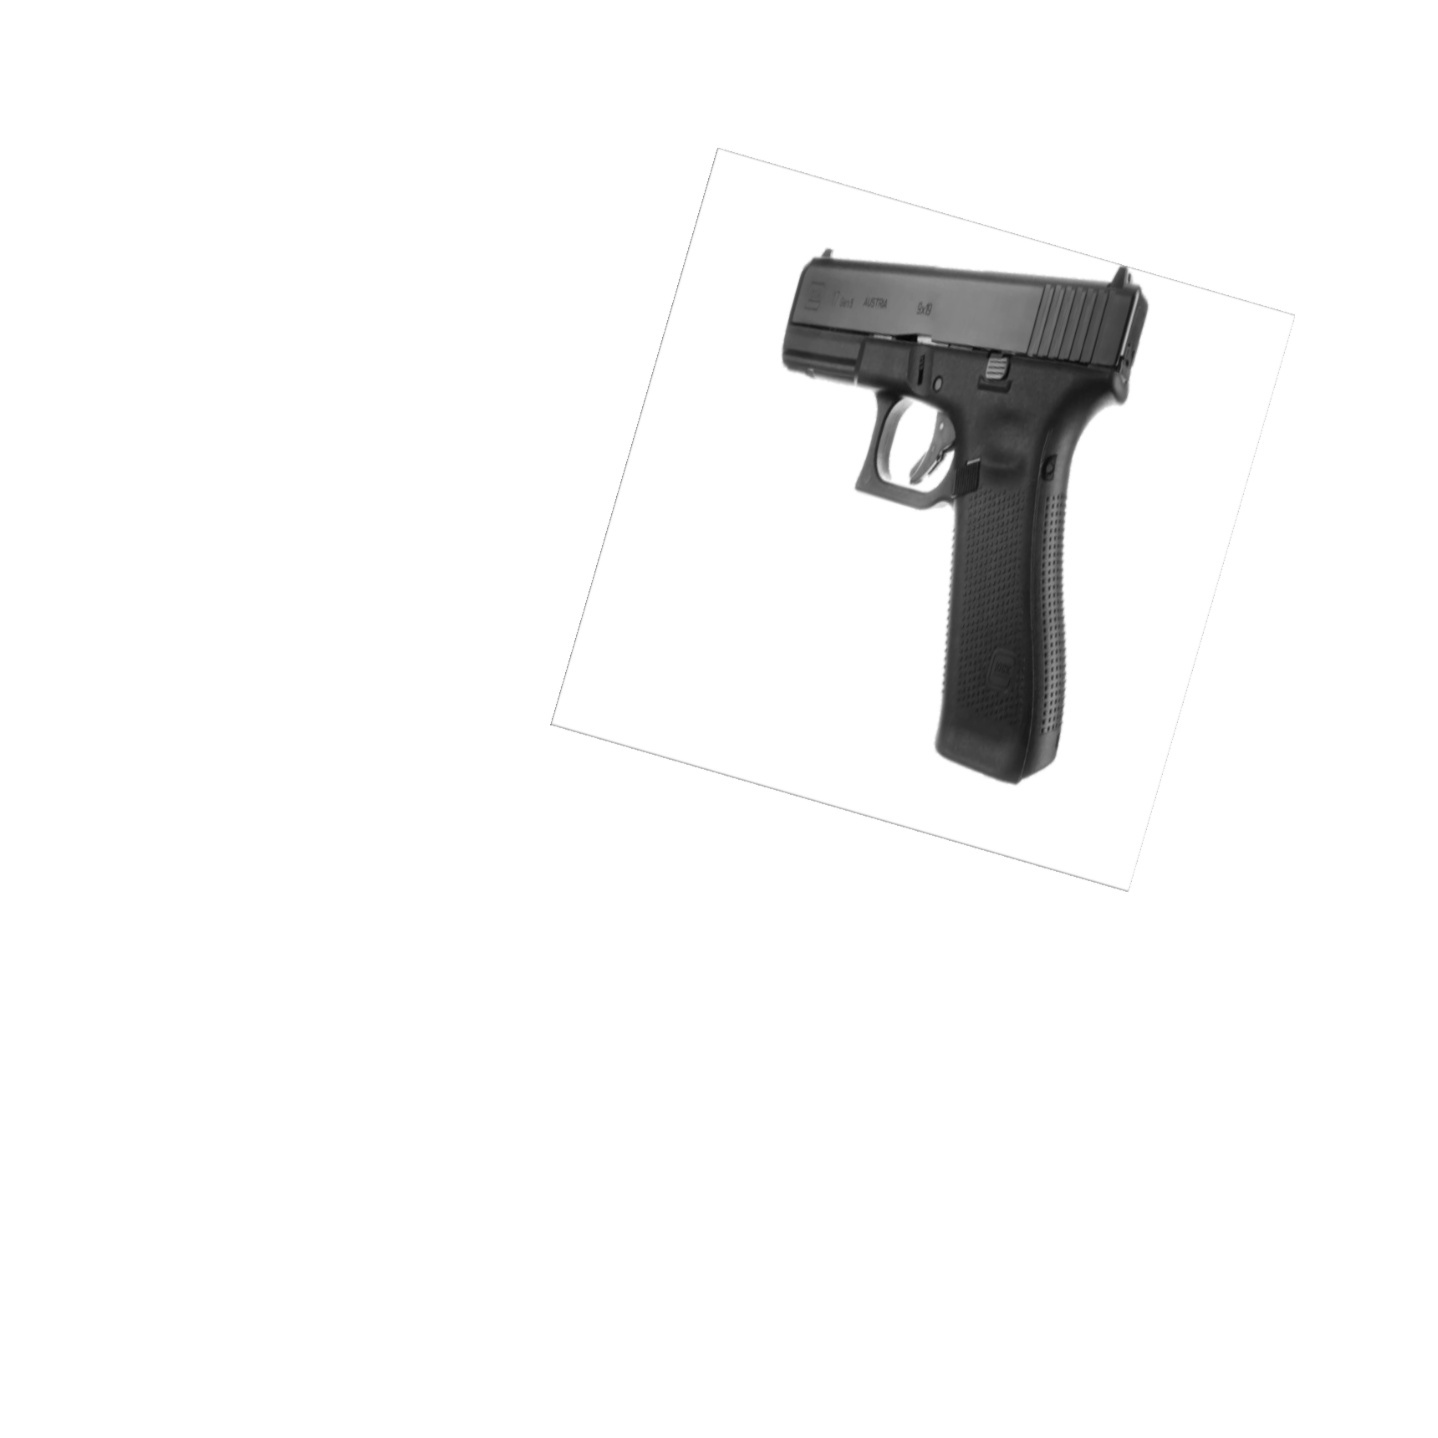gun: (774, 240, 1159, 787)
